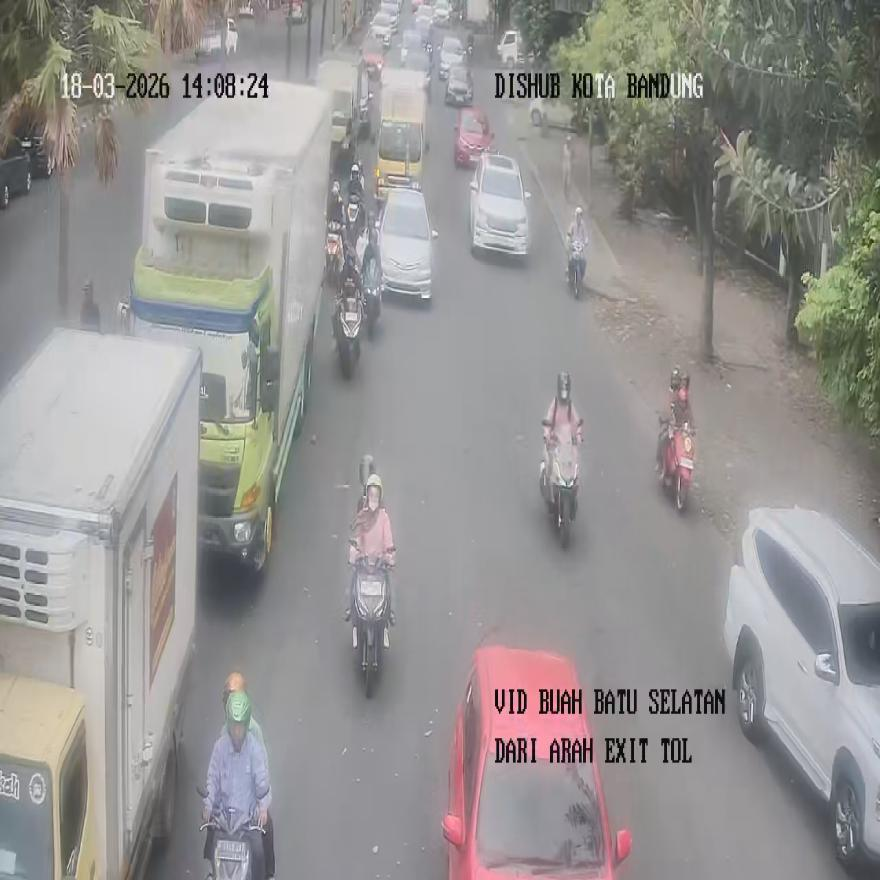Mobil: (722, 505, 880, 869), (442, 644, 632, 878), (377, 183, 435, 300), (469, 150, 531, 256), (453, 106, 495, 168)
Motor: (196, 783, 269, 880), (348, 541, 392, 698), (540, 419, 582, 548), (656, 412, 694, 511), (331, 285, 363, 376), (359, 236, 381, 335), (566, 230, 586, 297), (325, 221, 344, 286)
Truk berat: (118, 82, 332, 571)
Truk ringan: (374, 66, 428, 202)
